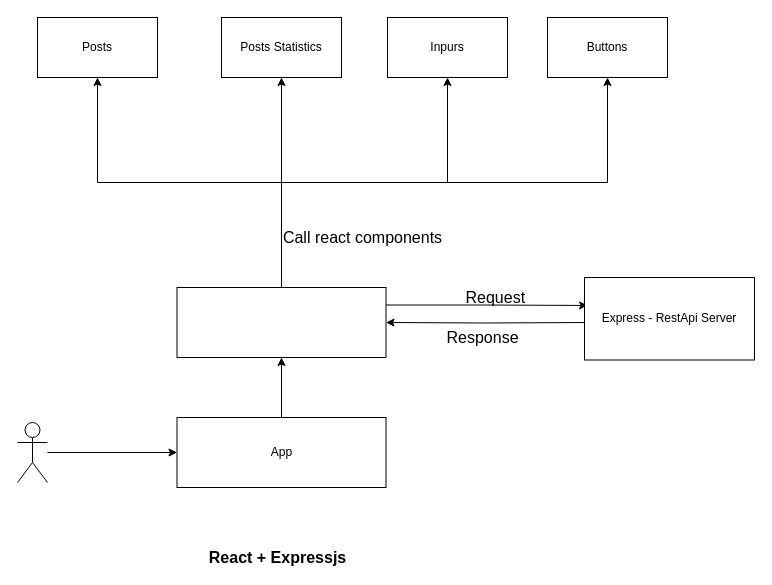
This 772x585 diagram has some shape labels left out. The centre of each missing label's shape, as x and y in pixels:
"Dashboard" belongs at point 281,322.
"user" belongs at point 32,452.
